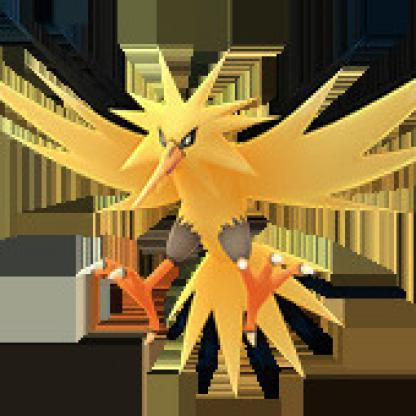Zapdos: (1, 21, 415, 395)
